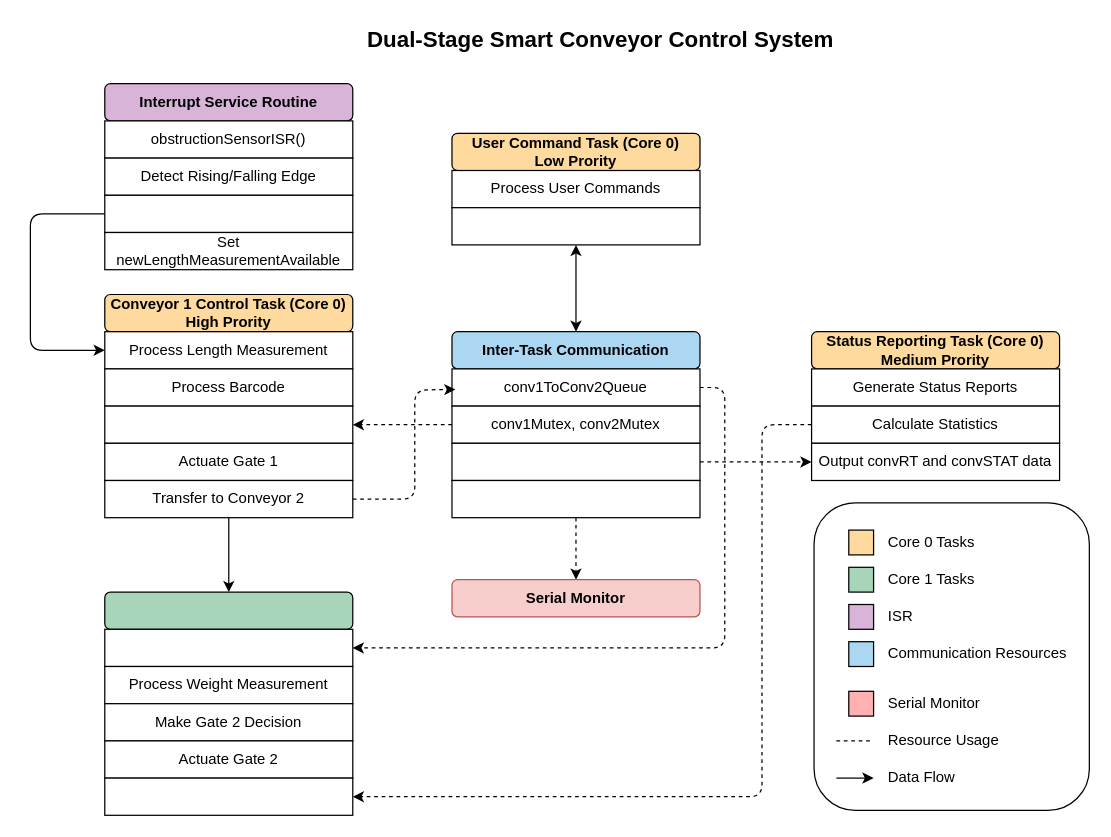
Image size: 1111x837. Some labels were removed from this diagram. The shapes that lost their labels are listed below. From the top down, each one's centre as x and y in pixels, then its label:
[228,213]: Capture Timestamp
[575,225]: Handle 'stat', 'reset', 'emergency'
[228,424]: Make Gate 1 Decision
[575,461]: reportMutex, statsMutex
[575,498]: serialMutex
[228,610]: Conveyor 2 Control Task (Core 1) High Prority
[228,647]: Receive Product from Queue
[228,796]: Finalize Product Status
